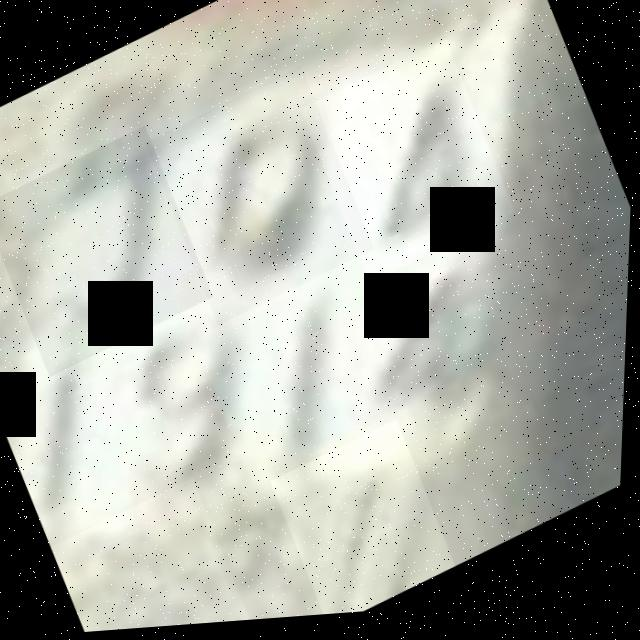2: (269, 421, 464, 623)
4: (296, 40, 522, 293), (321, 216, 537, 462)
5: (52, 475, 273, 636)
J: (0, 123, 220, 381)
O: (140, 66, 381, 333)
